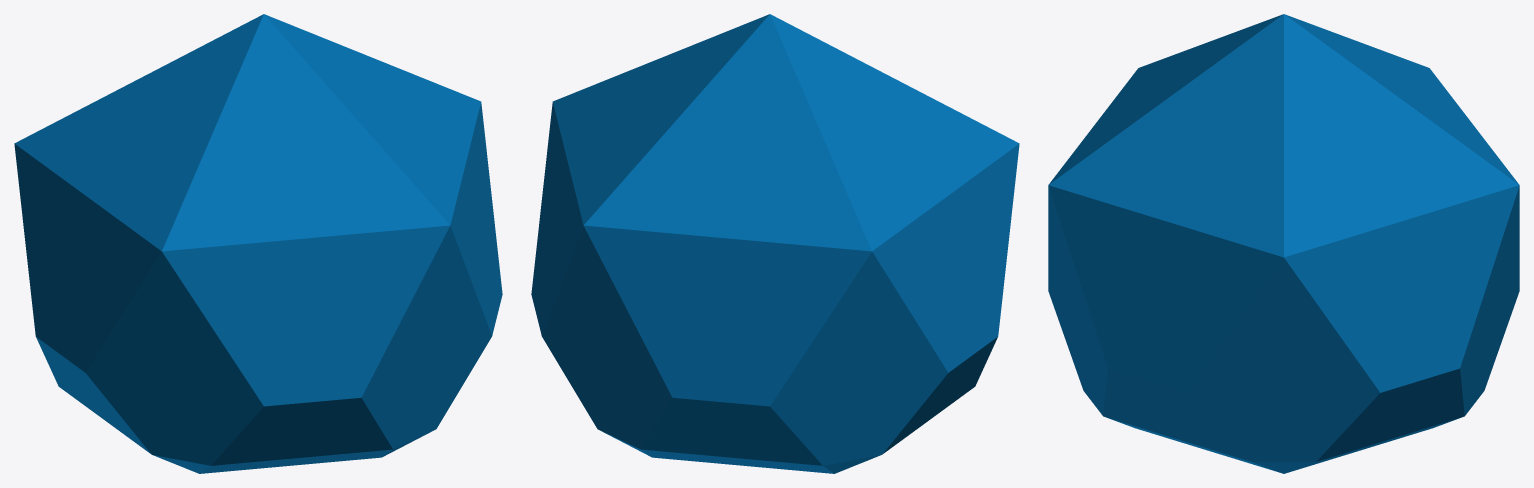
The model's file is Gem.fbx.
3 views of the same model, side by side, from view 1: azimuth 30°, elevation 25°; view 2: azimuth 150°, elevation 25°; view 3: azimuth 270°, elevation 25° (orthographic).
Visible parts, largest first — view 1: Gem; view 2: Gem; view 3: Gem.
Boxes of the visible parts, <box> form: Gem: <box>14,14,502,473</box>; Gem: <box>531,14,1019,473</box>; Gem: <box>1048,14,1519,473</box>.
Bounding box in the file's own units: 173 × 157 × 170.
